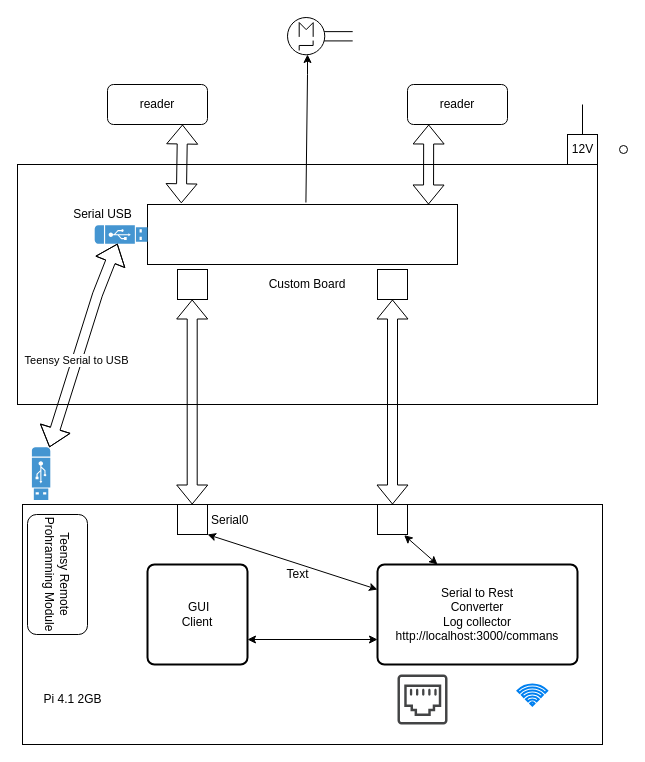
Image size: 645x762. Some labels were removed from this diagram. The shapes that lost their labels are listed below. From the top down, each one's centre as x and y in pixels, then its label:
At point (302, 234): "Teensy 4.1, Cortext @600Mhz Firmware".
At point (192, 284): "Serial1".
At point (392, 284): "serial7".
At point (392, 519): "Serial5".
